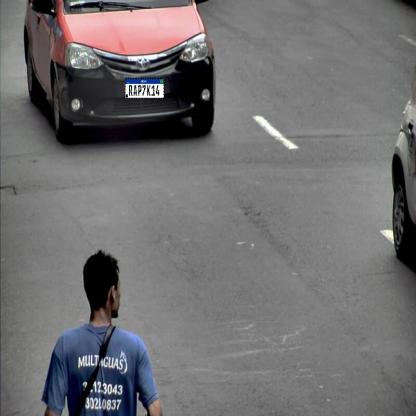PlacaM: (125, 78, 164, 99)
